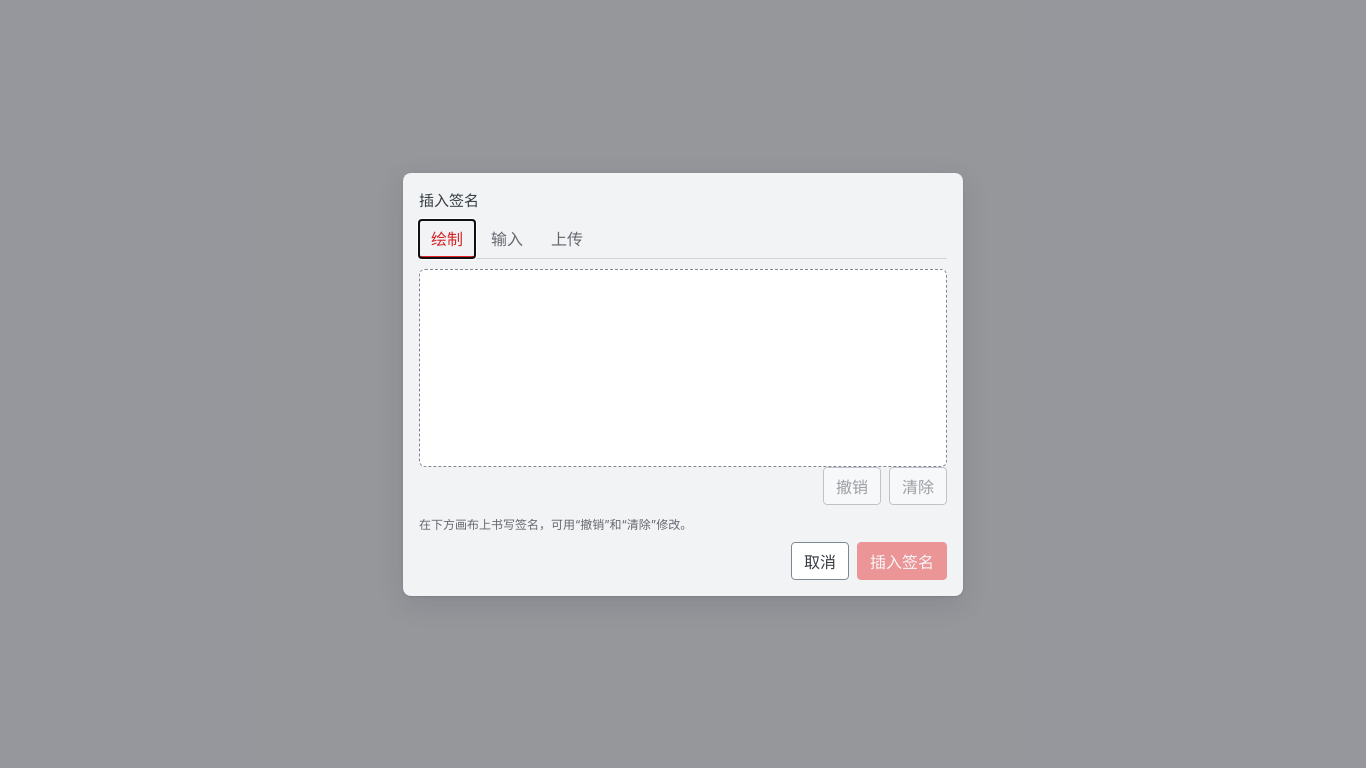
Test: SignatureDialog › keeps the dialog open and explains a rejected payload in Chinese
Press the mouse on the drawing with test id "signature-canvas" at (683, 368), box [419, 268, 947, 466]
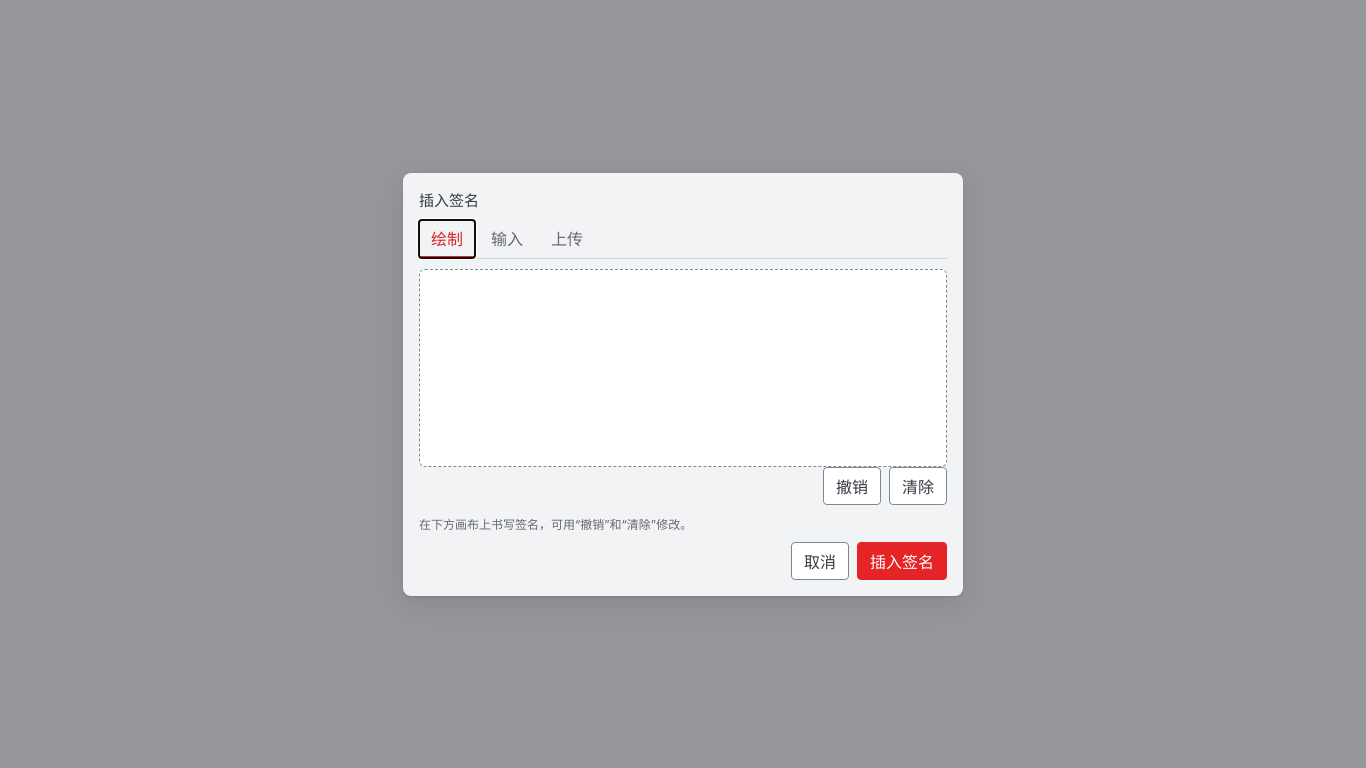
Click the button "插入签名" at (902, 560), box [857, 542, 947, 580]
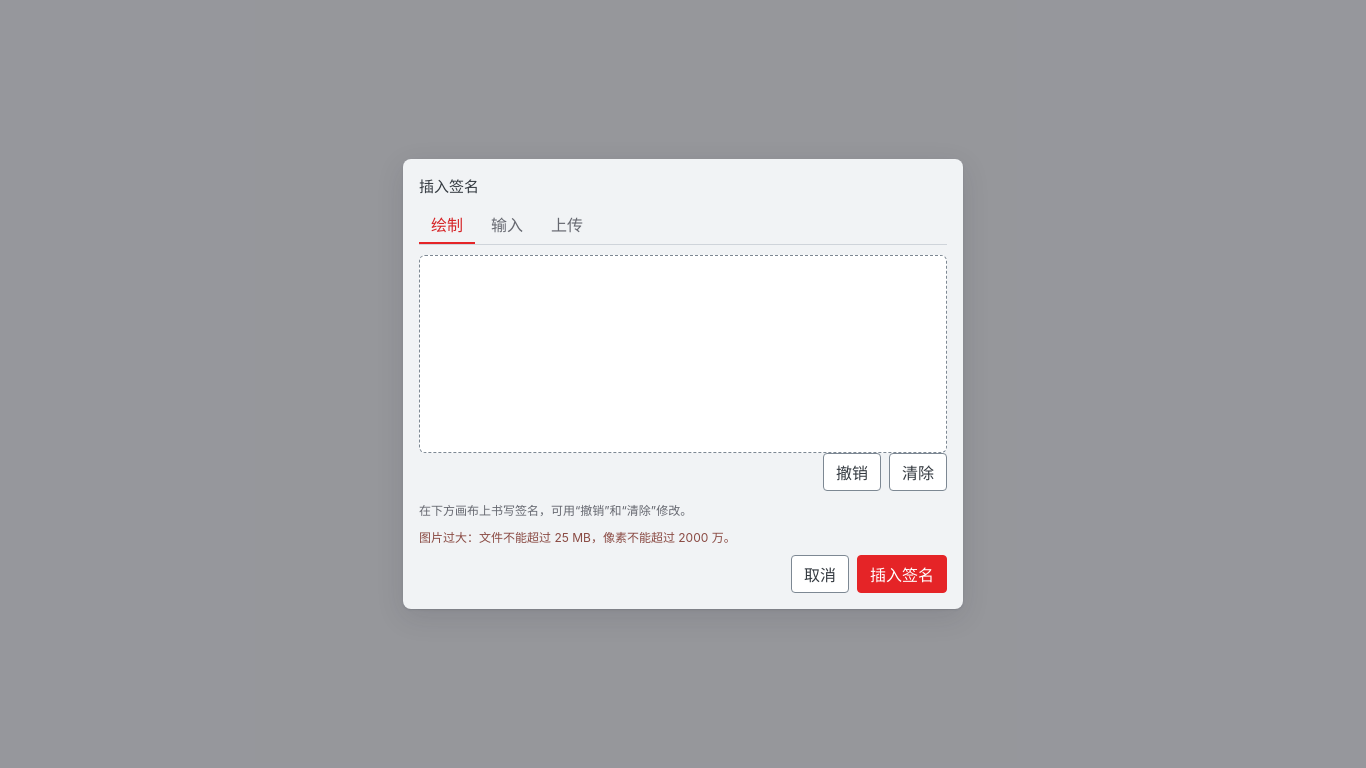
expect the button "插入签名" is enabled: met, box [857, 555, 947, 593]
expect the message "图片过大：文件不能超过 25 MB，像素不能超过 2000 万。" is shown: met, box [419, 530, 736, 545]
